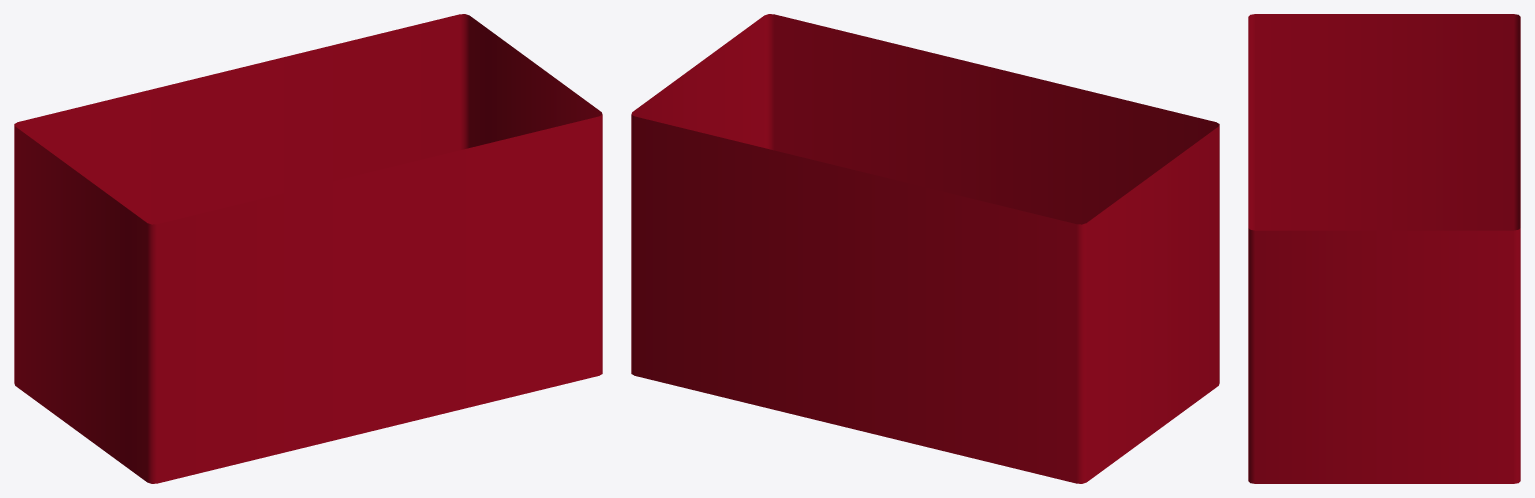
The model's file is bus_invisibleWalls.fbx.
3 views of the same model, side by side, from view 1: azimuth 30°, elevation 25°; view 2: azimuth 150°, elevation 25°; view 3: azimuth 270°, elevation 25° (orthographic). The views are drawn at different scales.
Visible parts, largest first — view 1: InvisibleWalls; view 2: InvisibleWalls; view 3: InvisibleWalls.
Part boxes in pixels (box(x1,y1,x2,y2)): InvisibleWalls: box(14, 14, 602, 483); InvisibleWalls: box(631, 14, 1219, 483); InvisibleWalls: box(1248, 14, 1520, 483).
Size of the model in its own units: 1196 by 652 by 636.
